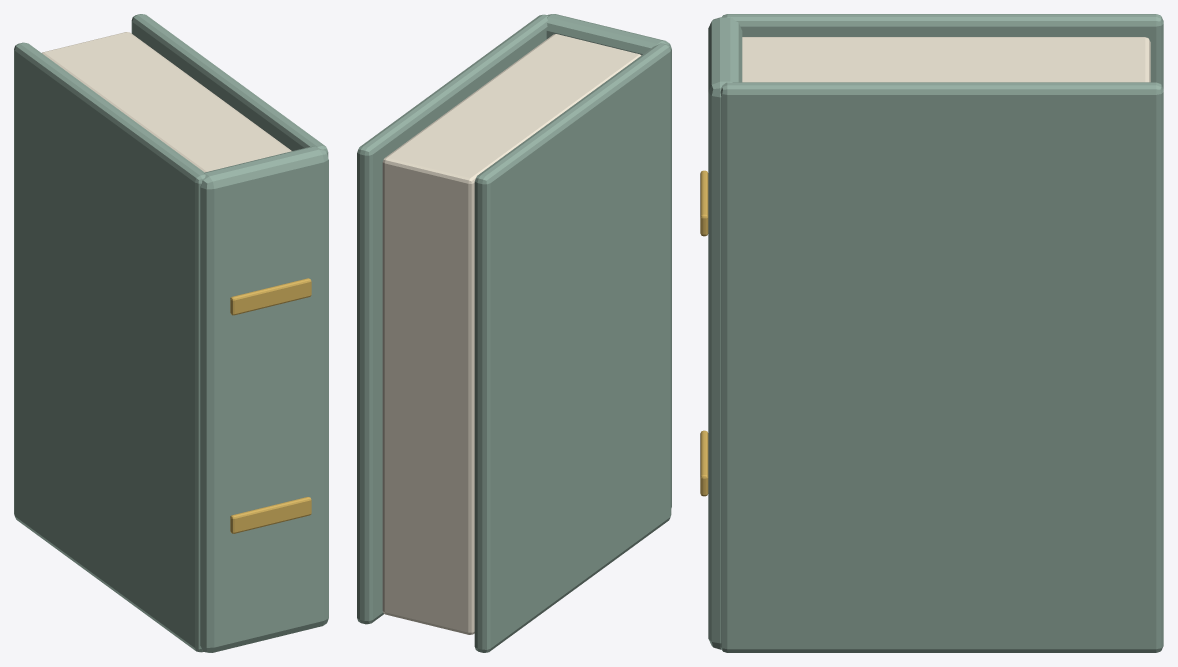
The model's file is book_sage.glb.
The picture shows the model from 3 angles, left to right: view 1: azimuth 30°, elevation 25°; view 2: azimuth 150°, elevation 25°; view 3: azimuth 270°, elevation 25°; orthographic projection. The views are drawn at different scales.
Parts seen in each view (by area): view 1: book_sage_Mesh; view 2: book_sage_Mesh; view 3: book_sage_Mesh.
Boxes of the visible parts, x1,y1,x2,y2 form: book_sage_Mesh: (14, 14, 328, 652); book_sage_Mesh: (357, 14, 671, 652); book_sage_Mesh: (700, 14, 1163, 652).
Size of the model in its own units: 0.07 by 0.24 by 0.1775.
